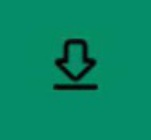ImgButton: (1, 1, 150, 139)
